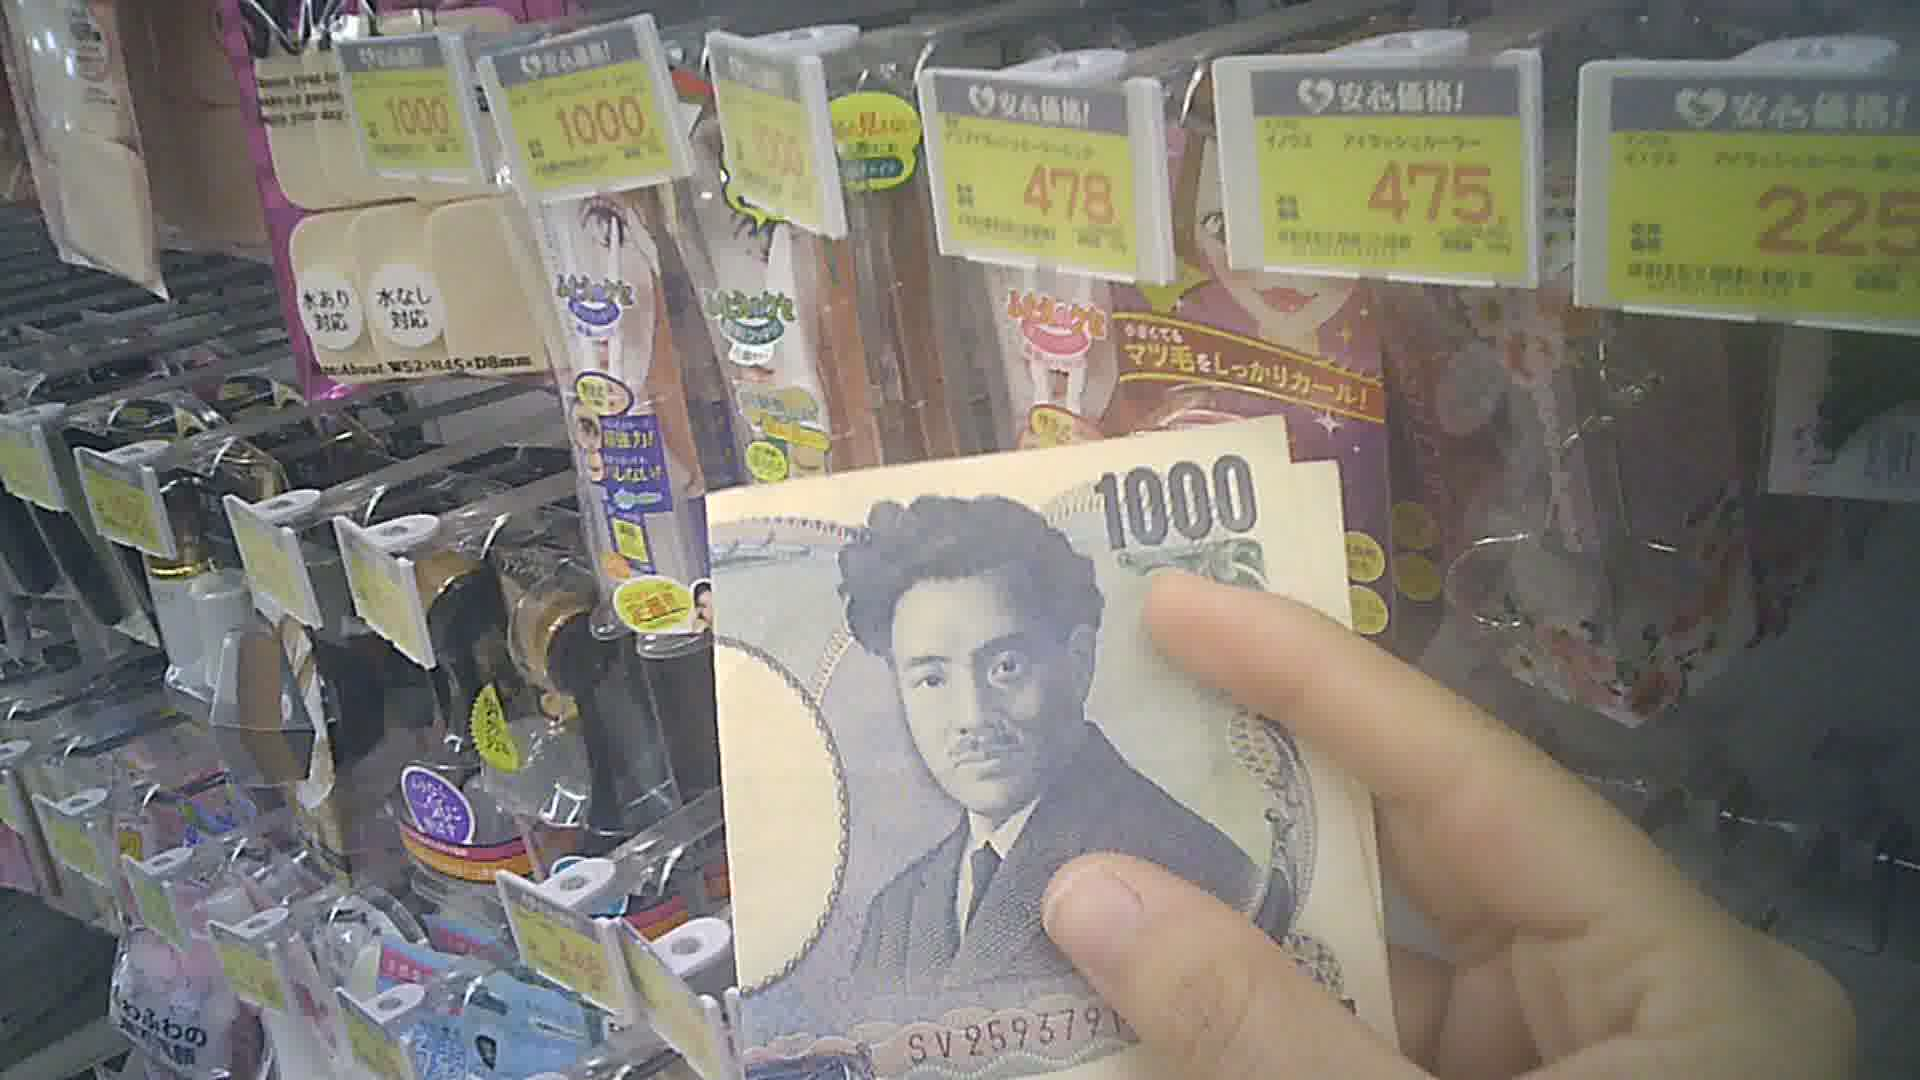1,000 Yen: (683, 425, 1416, 1079)
